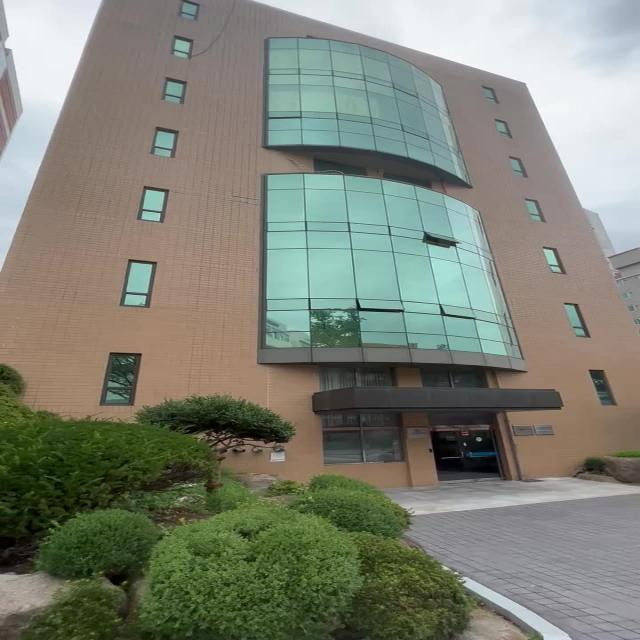building: (71, 22, 592, 411)
